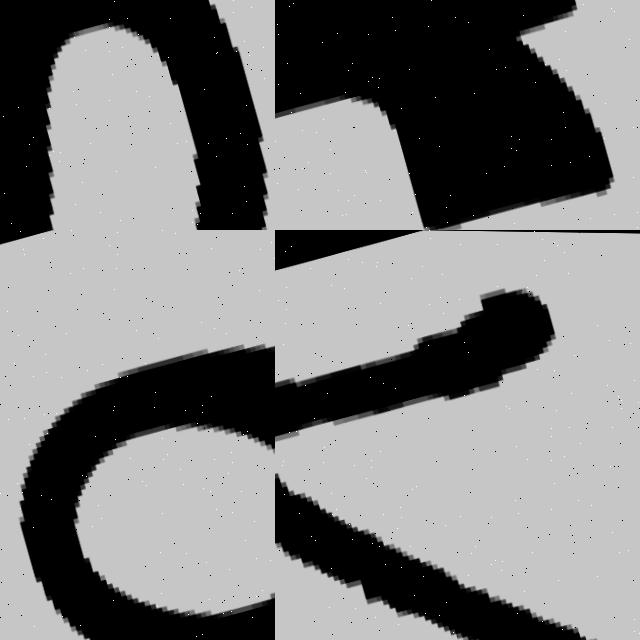6: (0, 257, 275, 640)
R: (275, 0, 640, 230)
S: (0, 0, 275, 230)
V: (275, 230, 640, 640)
